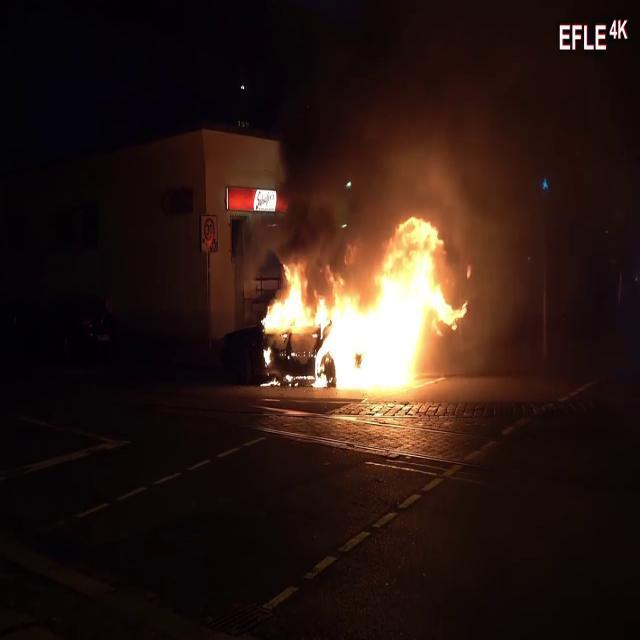Fire: (258, 216, 468, 396)
Smoke: (270, 2, 562, 266)
